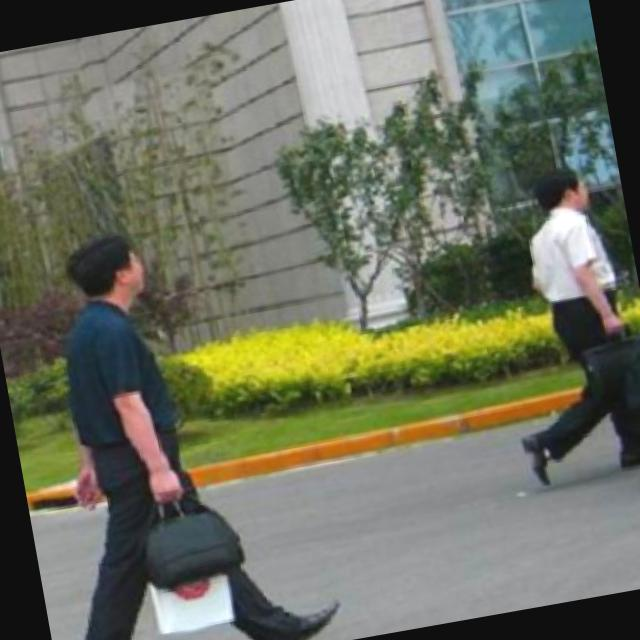Person: (0, 200, 347, 640), (469, 160, 640, 493), (605, 158, 640, 486)
